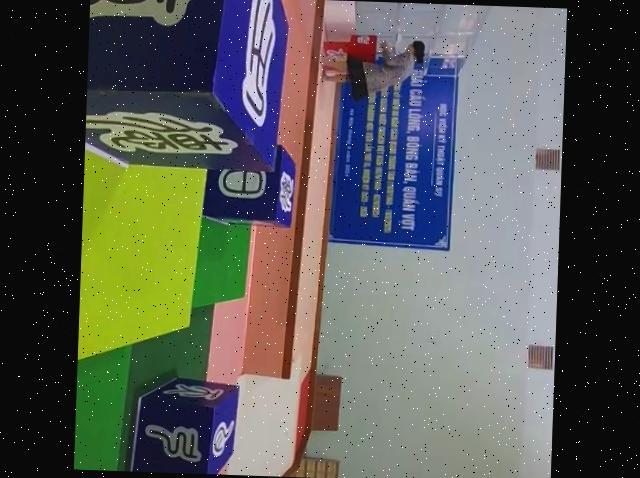R2 Fake Blue: (83, 0, 291, 172), (126, 375, 239, 476), (197, 141, 297, 227)
